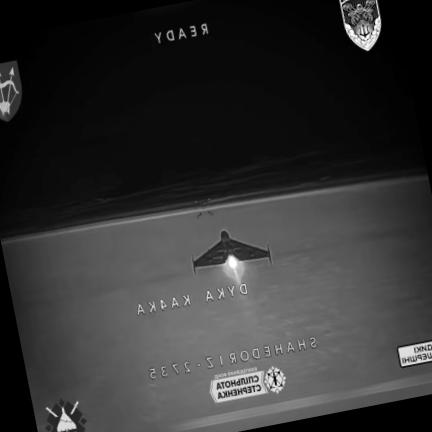Shahed: (191, 230, 271, 274)
